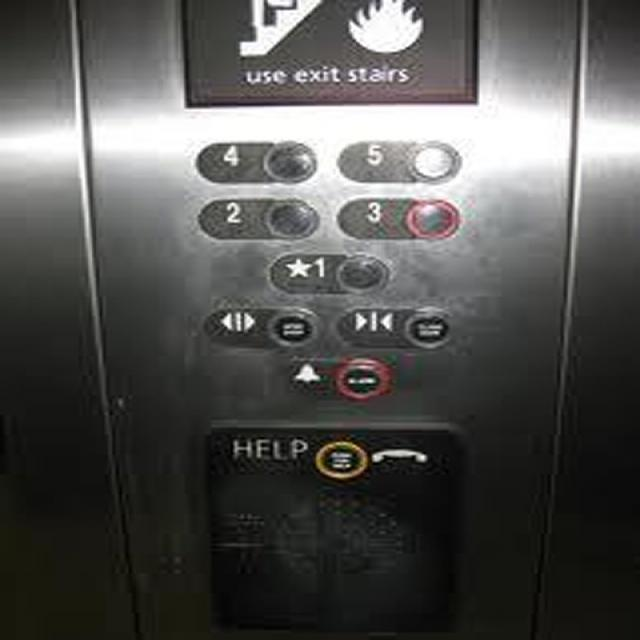2: (195, 191, 322, 239)
3: (334, 193, 462, 241)
4: (190, 137, 318, 185)
5: (334, 135, 462, 183)
alarm: (279, 352, 396, 401)
call: (311, 433, 428, 482)
close: (333, 303, 459, 350)
open: (199, 302, 324, 349)
s1: (266, 247, 394, 295)
